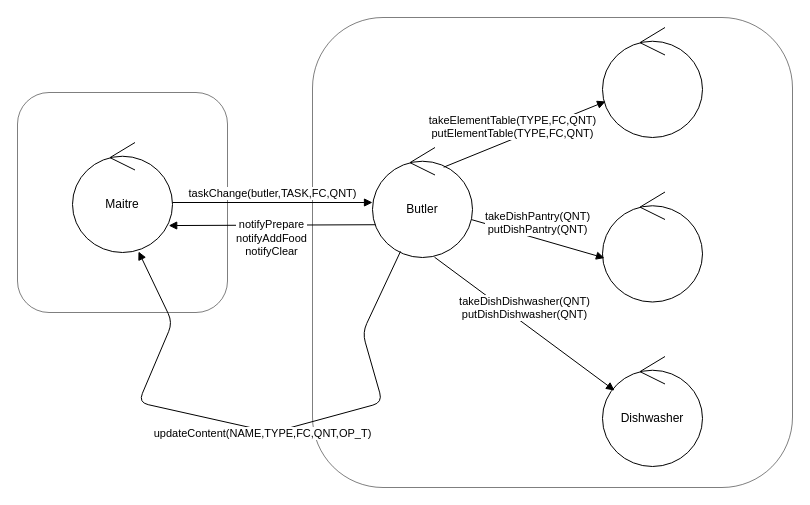
Image size: 810x505. Some labels were removed from this diagram. Each missing label, with the centre of its shape:
"Pantry" goes at point (652, 246).
"Table" goes at point (652, 82).
